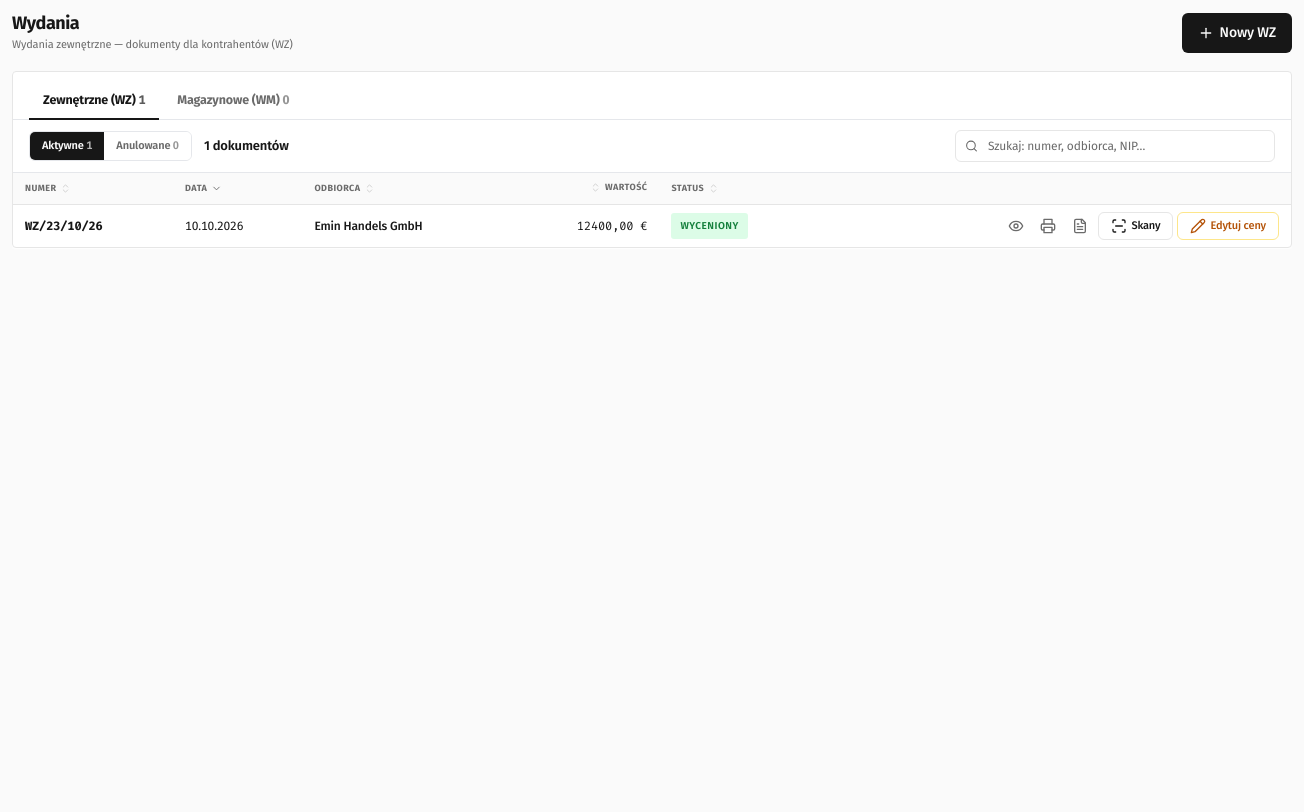
Test case: korekta już wycenionego WZ z kursu › otwiera aktualne ceny, zachowuje EUR i koryguje 4000 kg do 12600 EUR
expect the text "WZ/23/10/26" is shown: met, box 13,204 -> 173,247
expect the text "Wyceniony" is shown: met, box 671,213 -> 748,239
Step 1. Click the button "Edytuj ceny" → [1228, 226], box 1178,212 -> 1279,240
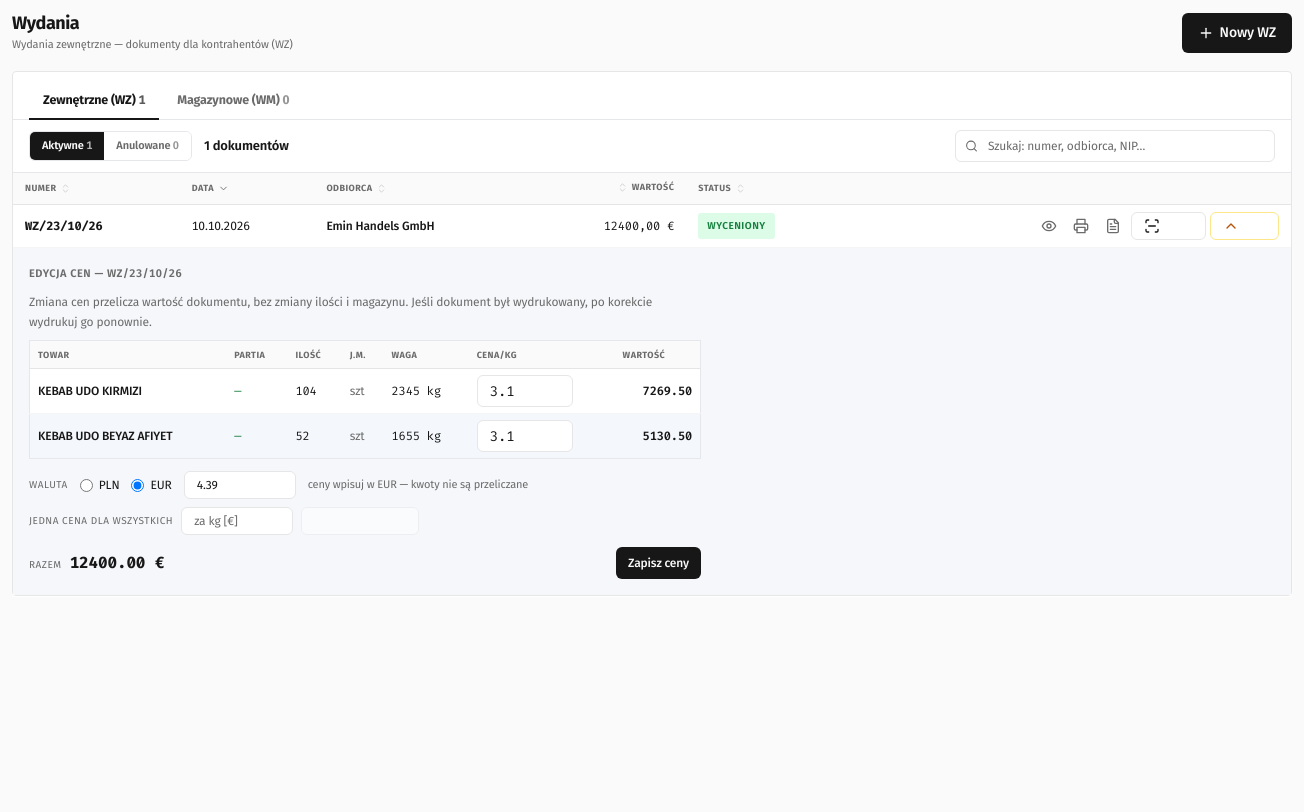
expect the text "Edycja cen — WZ/23/10/26" is shown: met, box 29,267 -> 182,280
expect the field named "Cena pozycji 1" holds "3.1": met, box 477,375 -> 573,407
expect the field named "Cena pozycji 2" holds "3.1": met, box 477,420 -> 573,452
Step 2. Type "3,15" into the field named "Jedna cena dla wszystkich" → [237, 521], box 181,507 -> 293,535
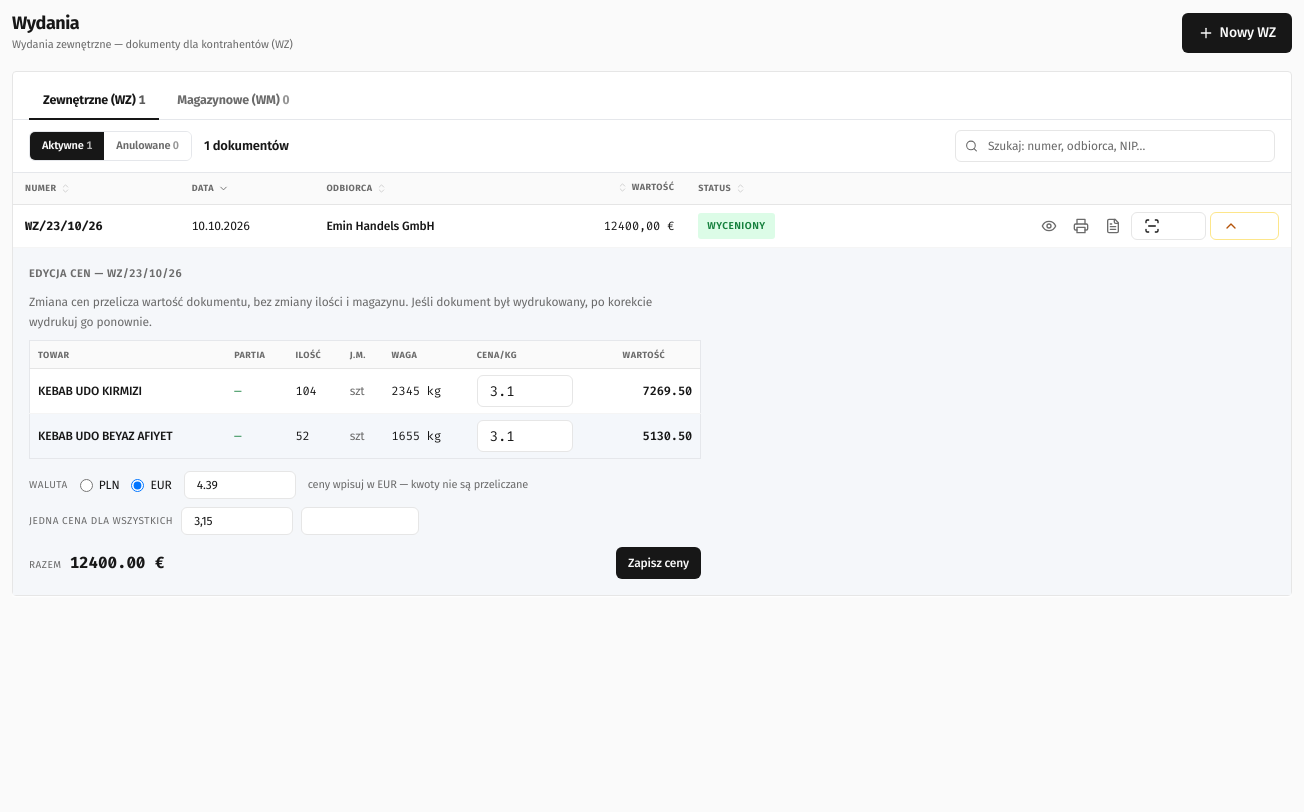
Step 3. Click the button "Wstaw do 2 pozycji" → [360, 521], box 301,507 -> 419,535
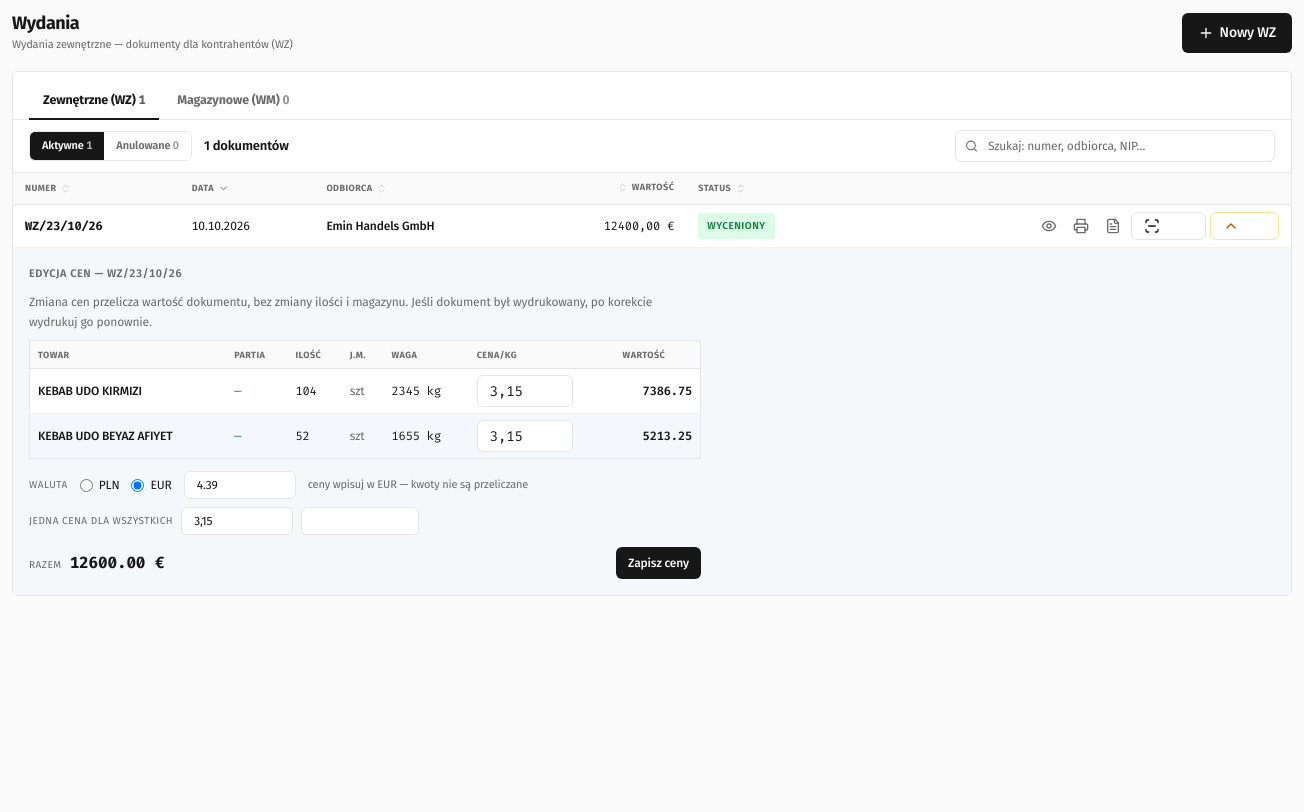
expect the text "12600.00 €" is shown: met, box 70,552 -> 164,573
Step 4. Click the button "Zapisz ceny" → [658, 563], box 616,547 -> 701,579
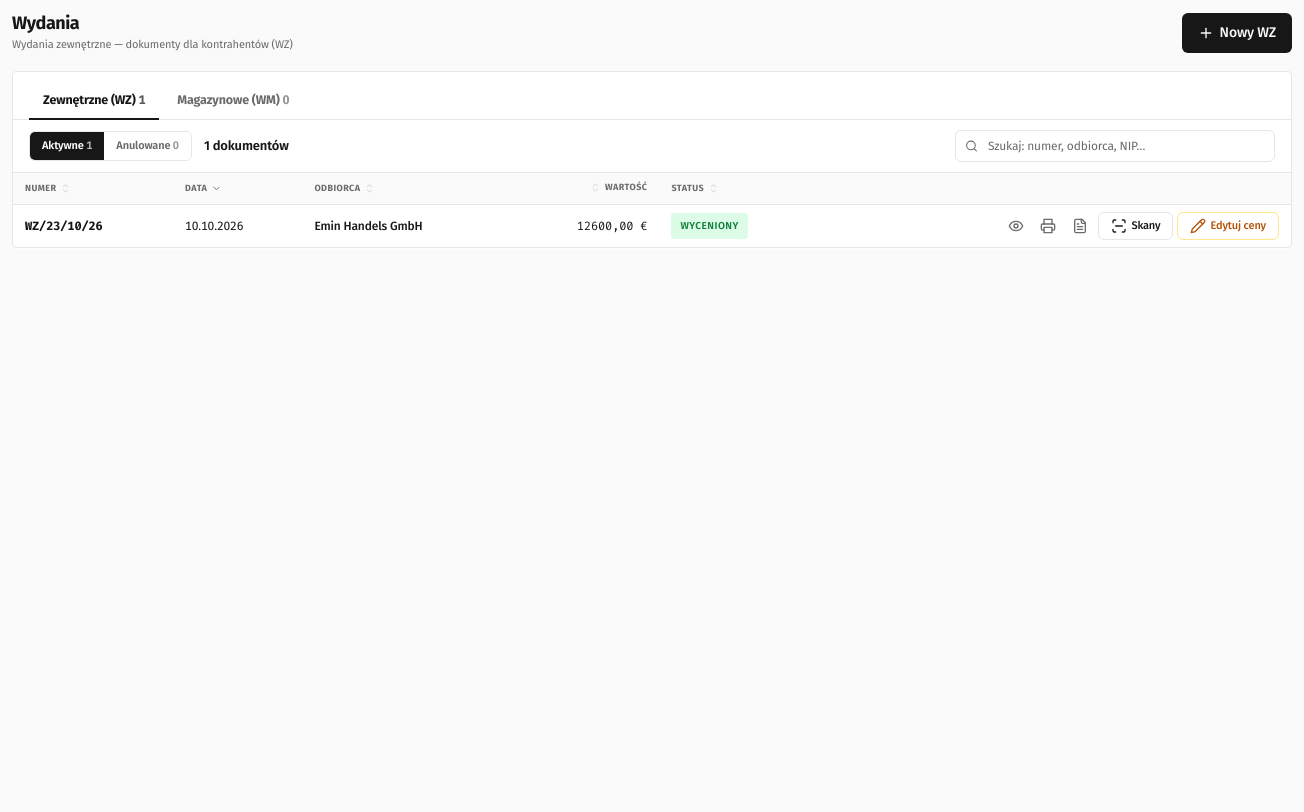
expect the text "Edycja cen —" is gone: met
expect the button "Edytuj ceny" is shown: met, box 1178,212 -> 1279,240
